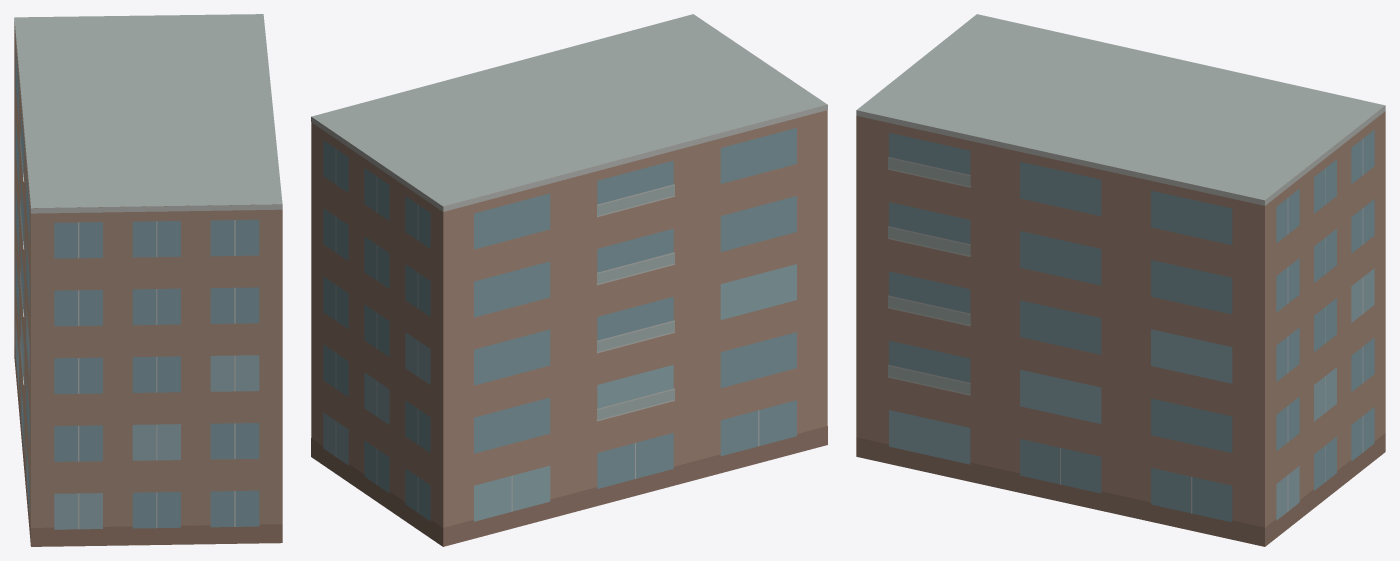
Rendered from survey-upis-32872818.glb.
3 views of the same model, side by side, from view 1: azimuth 30°, elevation 25°; view 2: azimuth 150°, elevation 25°; view 3: azimuth 270°, elevation 25° (orthographic). The views are drawn at different scales.
Visible parts, largest first — view 1: survey-upis-32872818.tmp; view 2: survey-upis-32872818.tmp; view 3: survey-upis-32872818.tmp.
Part boxes in pixels (bbox=[...]): survey-upis-32872818.tmp: bbox=[14, 14, 282, 546]; survey-upis-32872818.tmp: bbox=[311, 14, 827, 546]; survey-upis-32872818.tmp: bbox=[856, 14, 1385, 546].
Bounding box in the file's own units: 17.6 × 15.25 × 21.12.
